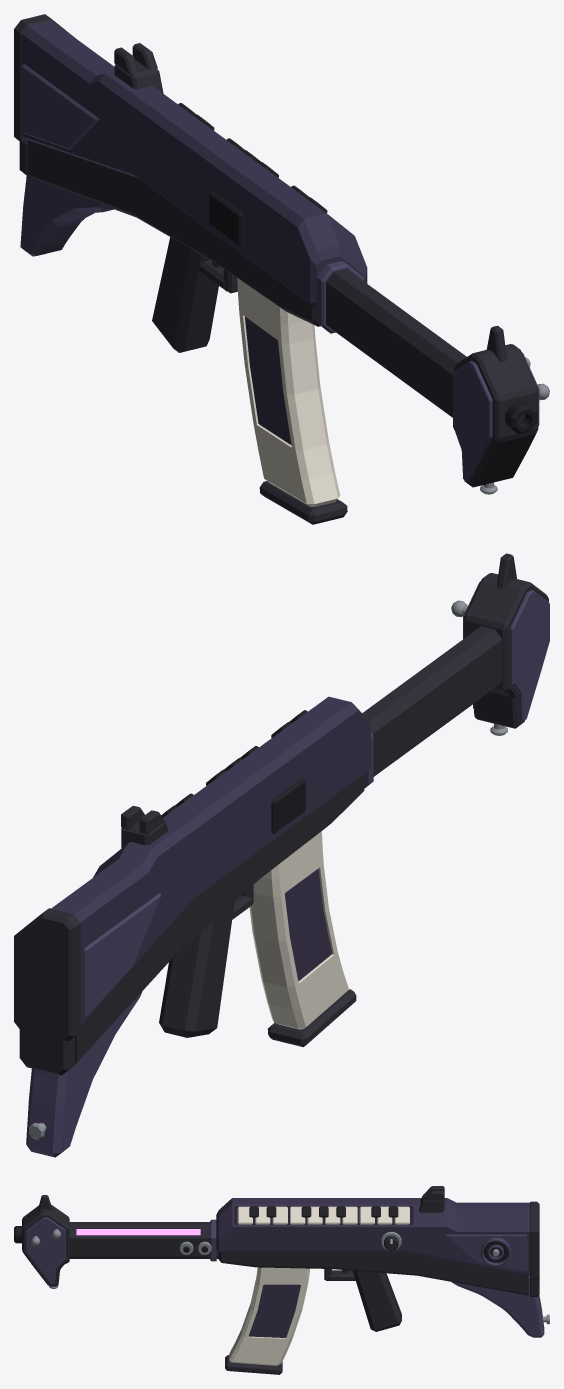
The model's file is w_ar@ar_keytar.glb.
The picture shows the model from 3 angles, top to bottom: view 1: azimuth 30°, elevation 25°; view 2: azimuth 150°, elevation 25°; view 3: azimuth 270°, elevation 25°; orthographic projection. The views are drawn at different scales.
Parts seen in each view (by area): view 1: body_wzA__body__p3b3550, mag_wzN__white__pe3ded1, body_wzB__dark__p2c2b34, neck_wzB__dark__p2c2b34, grip_wzB__dark__p2c2b34, head_wzB__dark__p2c2b34, fin_wzA__fin__p4a4363, panel_wzA__fin__p4a4363, head_wzA__fin__p4a4363, mag_wzA__body__p3b3550, sight_wzB__dark__p2c2b34, stock_wzB__dark__p2c2b34 (+4 smaller); view 2: body_wzA__body__p3b3550, stock_wzB__dark__p2c2b34, mag_wzN__white__pe3ded1, neck_wzB__dark__p2c2b34, body_wzB__dark__p2c2b34, grip_wzB__dark__p2c2b34, fin_wzA__fin__p4a4363, head_wzB__dark__p2c2b34, panel_wzA__fin__p4a4363, head_wzA__fin__p4a4363, mag_wzA__body__p3b3550, sight_wzB__dark__p2c2b34 (+2 smaller); view 3: body_wzA__body__p3b3550, body_wzB__dark__p2c2b34, neck_wzB__dark__p2c2b34, mag_wzN__white__pe3ded1, grip_wzB__dark__p2c2b34, mag_wzA__body__p3b3550, fin_wzA__fin__p4a4363, head_wzA__fin__p4a4363, panel_wzA__fin__p4a4363, head_wzB__dark__p2c2b34, stock_wzB__dark__p2c2b34, neck_wzN__glow__nff69bb (+14 smaller).
Boxes of the visible parts, x1,y1,x2,y2 form: body_wzA__body__p3b3550: (22, 20, 367, 306); mag_wzN__white__pe3ded1: (237, 278, 340, 506); body_wzB__dark__p2c2b34: (27, 140, 320, 326); neck_wzB__dark__p2c2b34: (326, 269, 466, 417); grip_wzB__dark__p2c2b34: (152, 236, 237, 352); head_wzB__dark__p2c2b34: (454, 344, 538, 487); fin_wzA__fin__p4a4363: (20, 175, 113, 256); panel_wzA__fin__p4a4363: (22, 64, 99, 149); head_wzA__fin__p4a4363: (453, 352, 539, 481); mag_wzA__body__p3b3550: (245, 317, 291, 445); sight_wzB__dark__p2c2b34: (114, 43, 506, 362); stock_wzB__dark__p2c2b34: (14, 14, 73, 177); body_wzA__body__p3b3550: (51, 696, 370, 1024); stock_wzB__dark__p2c2b34: (14, 908, 80, 1075); mag_wzN__white__pe3ded1: (249, 831, 348, 1029); neck_wzB__dark__p2c2b34: (362, 626, 502, 782); body_wzB__dark__p2c2b34: (75, 774, 364, 1063); grip_wzB__dark__p2c2b34: (159, 885, 253, 1037); fin_wzA__fin__p4a4363: (26, 991, 142, 1157); head_wzB__dark__p2c2b34: (464, 573, 548, 728); panel_wzA__fin__p4a4363: (83, 893, 160, 1017); head_wzA__fin__p4a4363: (463, 581, 549, 721); mag_wzA__body__p3b3550: (284, 868, 332, 981); sight_wzB__dark__p2c2b34: (121, 553, 516, 848); body_wzA__body__p3b3550: (216, 1198, 529, 1275); body_wzB__dark__p2c2b34: (218, 1252, 528, 1295); neck_wzB__dark__p2c2b34: (69, 1222, 218, 1258); mag_wzN__white__pe3ded1: (229, 1267, 309, 1365); grip_wzB__dark__p2c2b34: (324, 1269, 401, 1331); mag_wzA__body__p3b3550: (248, 1284, 300, 1337); fin_wzA__fin__p4a4363: (452, 1276, 544, 1337); head_wzA__fin__p4a4363: (25, 1217, 65, 1284); panel_wzA__fin__p4a4363: (445, 1234, 527, 1271); head_wzB__dark__p2c2b34: (22, 1204, 69, 1286); stock_wzB__dark__p2c2b34: (530, 1201, 539, 1296); neck_wzN__glow__nff69bb: (76, 1229, 200, 1235).
Bounding box in the file's own units: 0.1095 × 0.4599 × 1.23.
